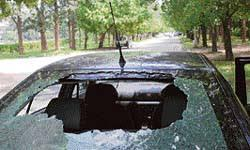Rear-windscreen-Damage: (0, 62, 249, 149)
